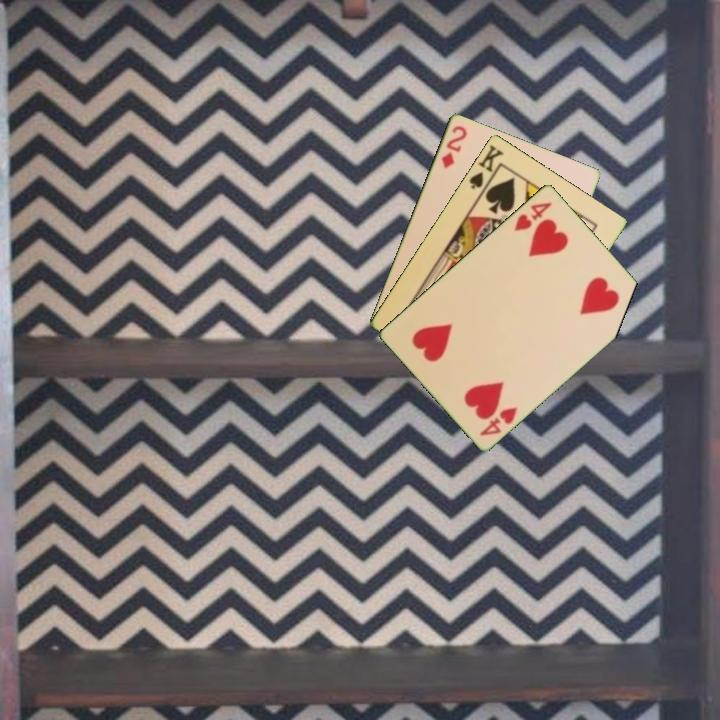2d: (438, 122, 470, 171)
4h: (510, 198, 555, 234), (476, 403, 520, 438)
Ks: (465, 141, 506, 198)
